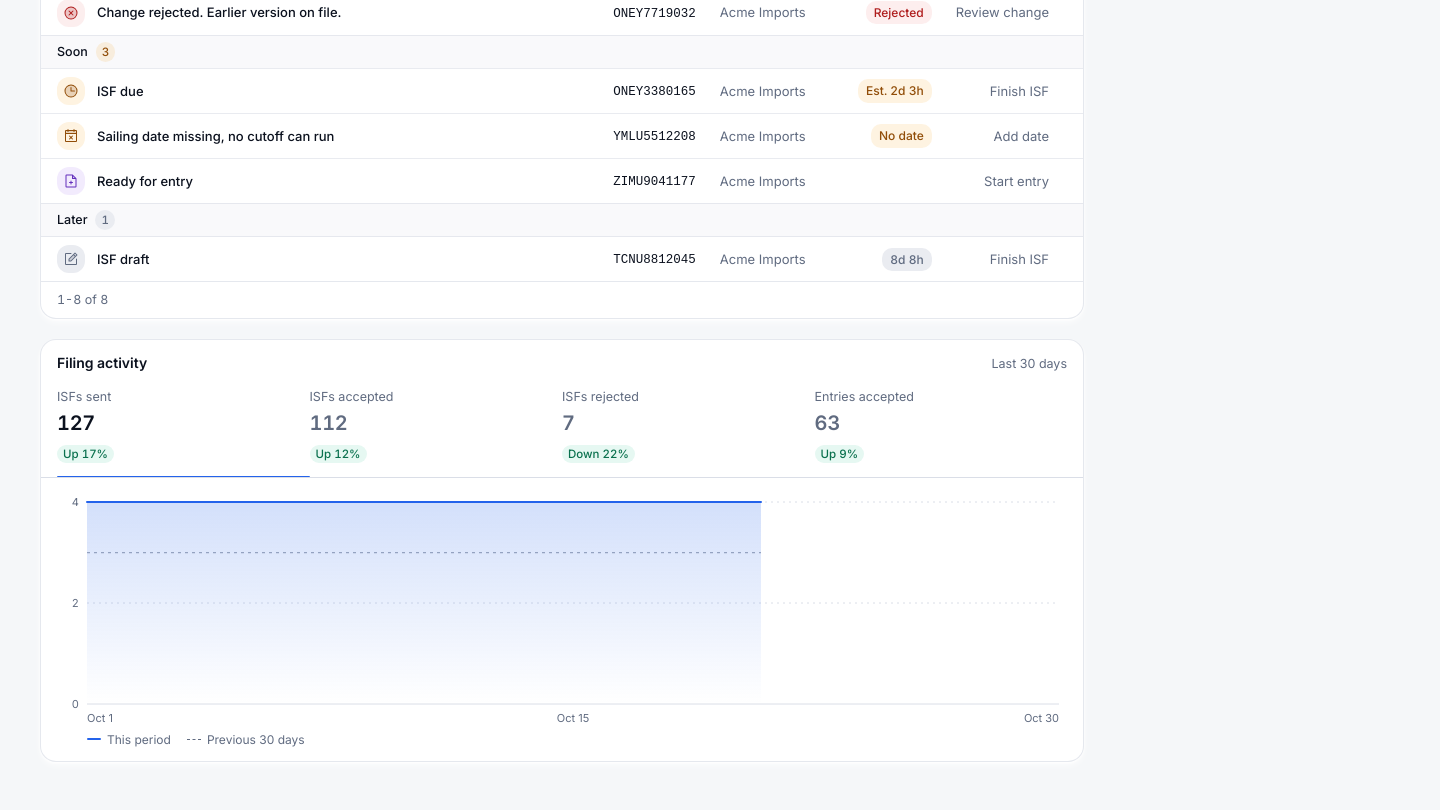
Test: DashboardHome › switches the chart between measures
(page scrolled)
Click the tab "ISFs rejected 7 Down 22%" at {"x": 688, "y": 432}, box [562,387,814,477]
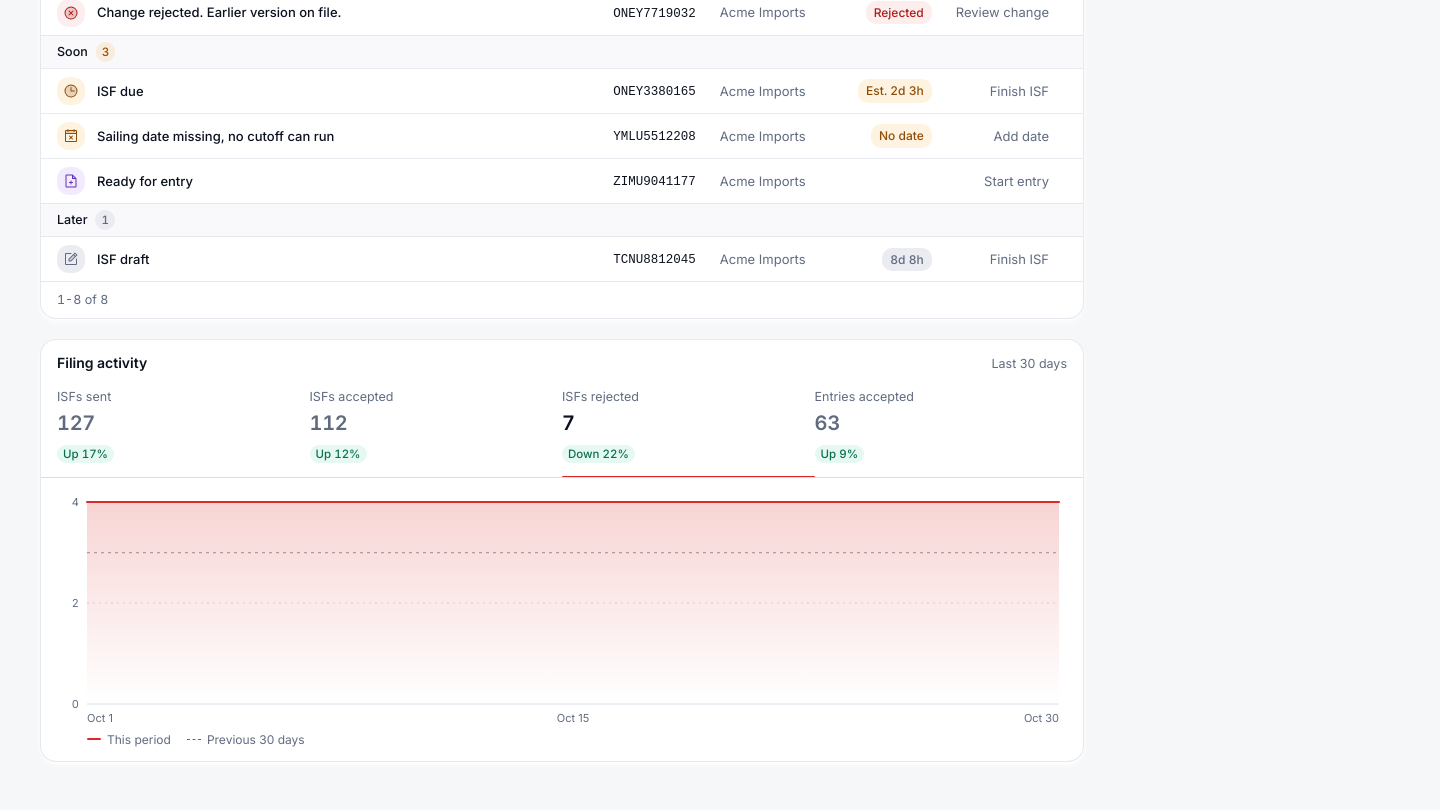
Now the tab "ISFs rejected 7 Down 22%" is selected, box [562,387,814,477]
